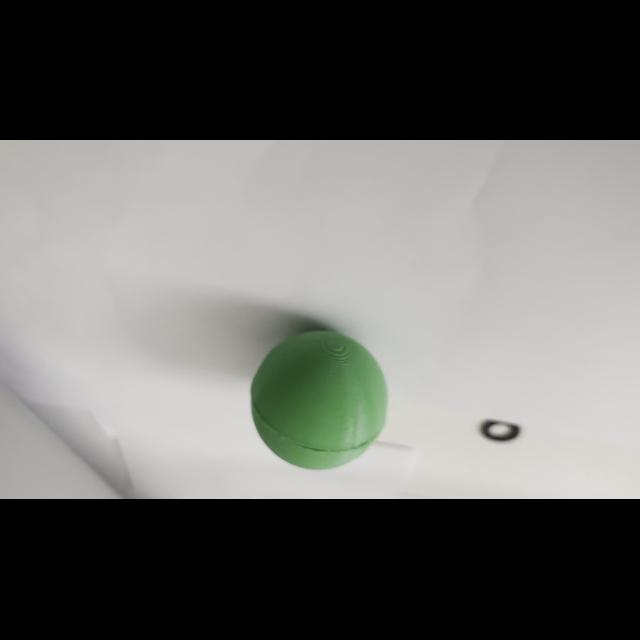objects: (243, 324, 395, 474)
